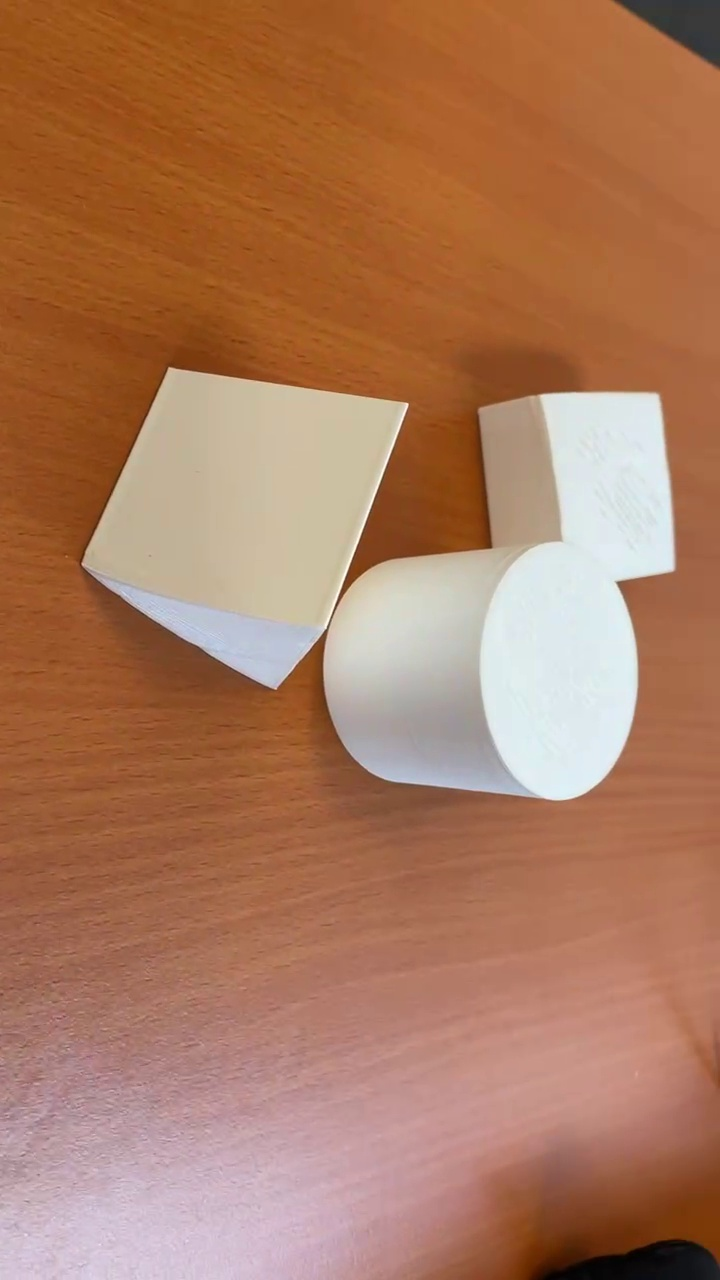Cube_short: (479, 387, 676, 582)
Cylinder: (316, 545, 639, 800)
Triangle: (81, 364, 409, 690)
